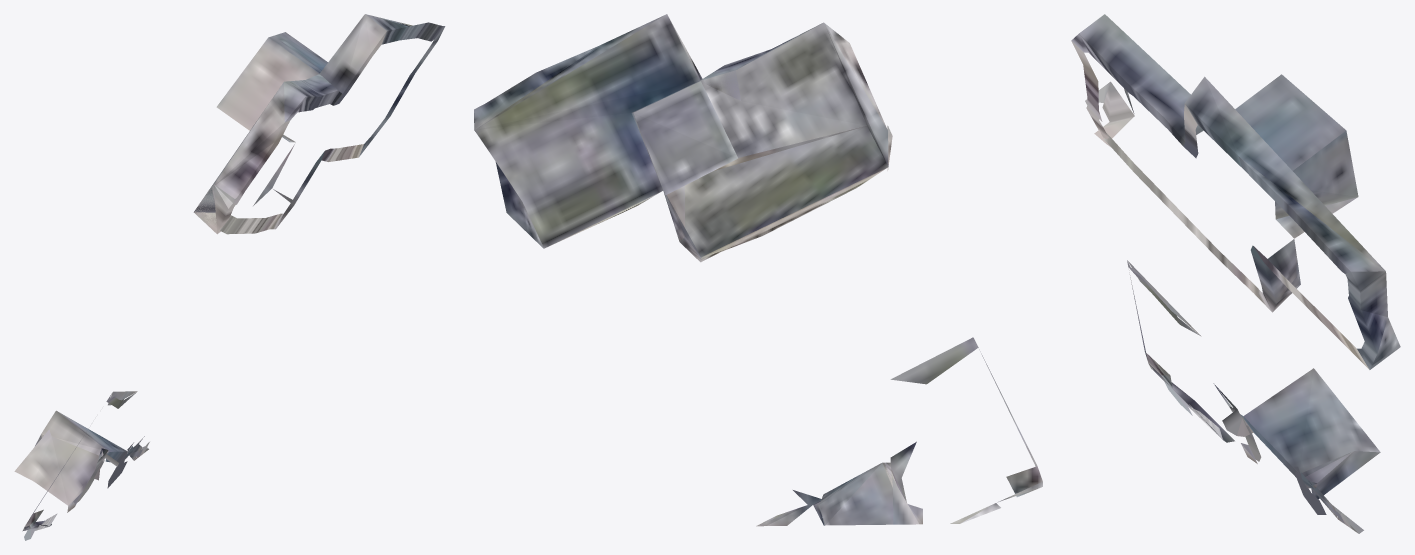
The picture shows the model from 3 angles, left to right: view 1: azimuth 30°, elevation 25°; view 2: azimuth 150°, elevation 25°; view 3: azimuth 270°, elevation 25°; orthographic projection. The views are drawn at different scales.
Bounding box in the file's own units: 67.06 × 58.03 × 30.58.
Materials: 1 (1 with a texture image).
